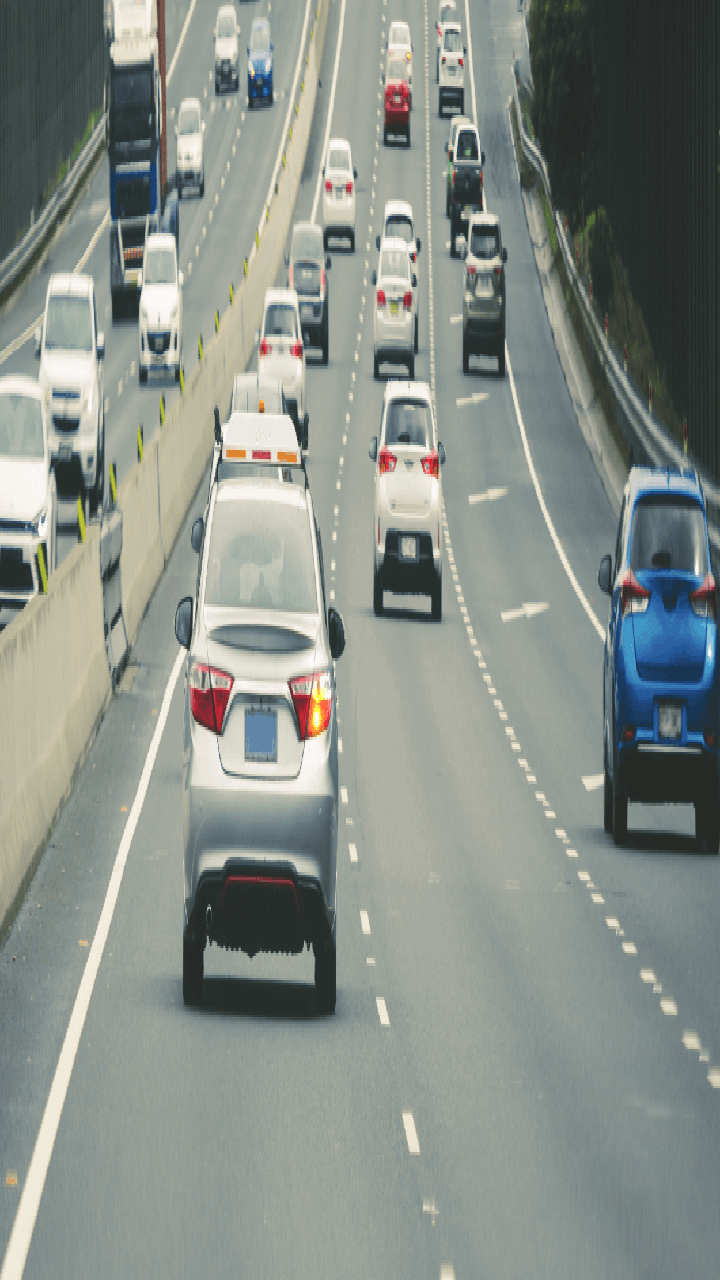vehicle: (185, 444, 350, 1003), (599, 456, 719, 840), (97, 1, 194, 301), (370, 375, 454, 647), (39, 257, 111, 473), (1, 365, 58, 607), (246, 275, 318, 455), (117, 227, 188, 408), (447, 215, 514, 369), (283, 197, 350, 351), (362, 233, 424, 376), (317, 137, 372, 245), (171, 66, 208, 211), (373, 56, 427, 149), (441, 113, 495, 206), (434, 23, 488, 116), (210, 2, 240, 107), (246, 12, 276, 117)
